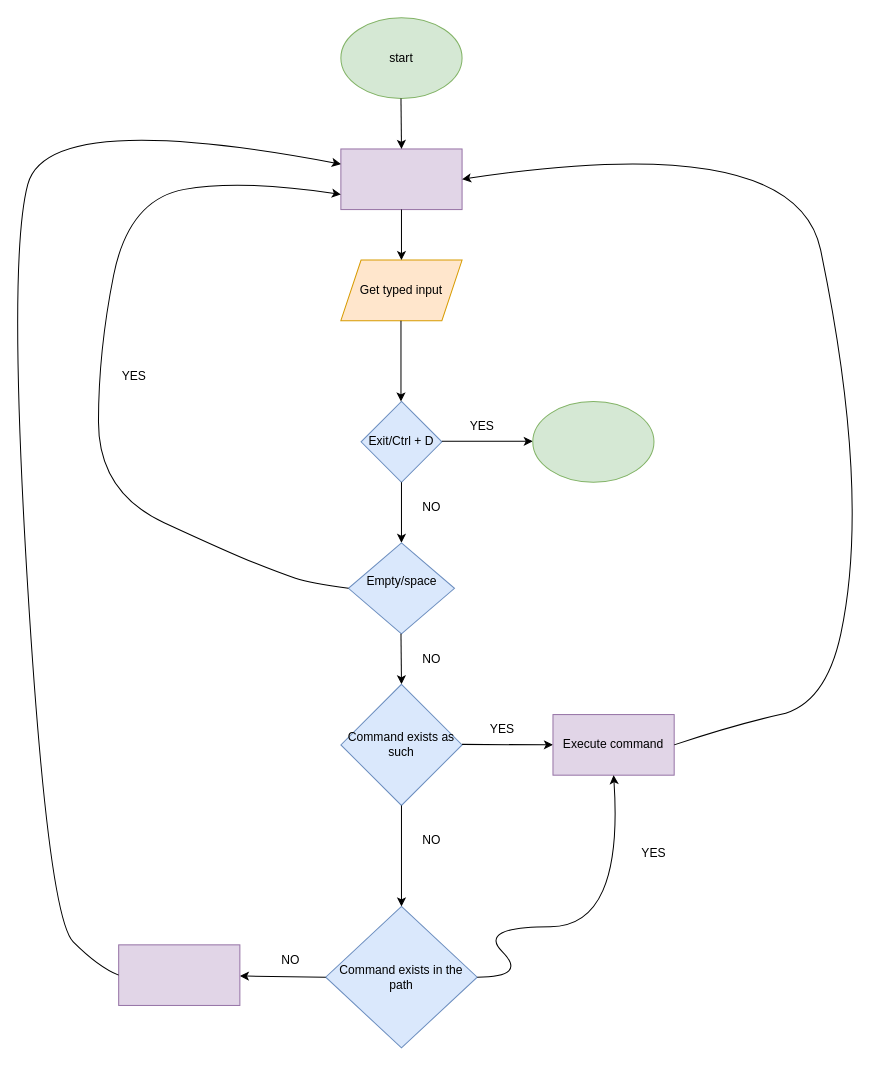
This 871x1066 diagram has some shape labels left out. The shapes that lost their labels are listed below. From the top down, each one's box as (x1, y1, x2, y2) in pixels, then its label:
(340, 148, 462, 210): Prompt
(532, 400, 654, 482): END
(118, 944, 240, 1005): Error message
